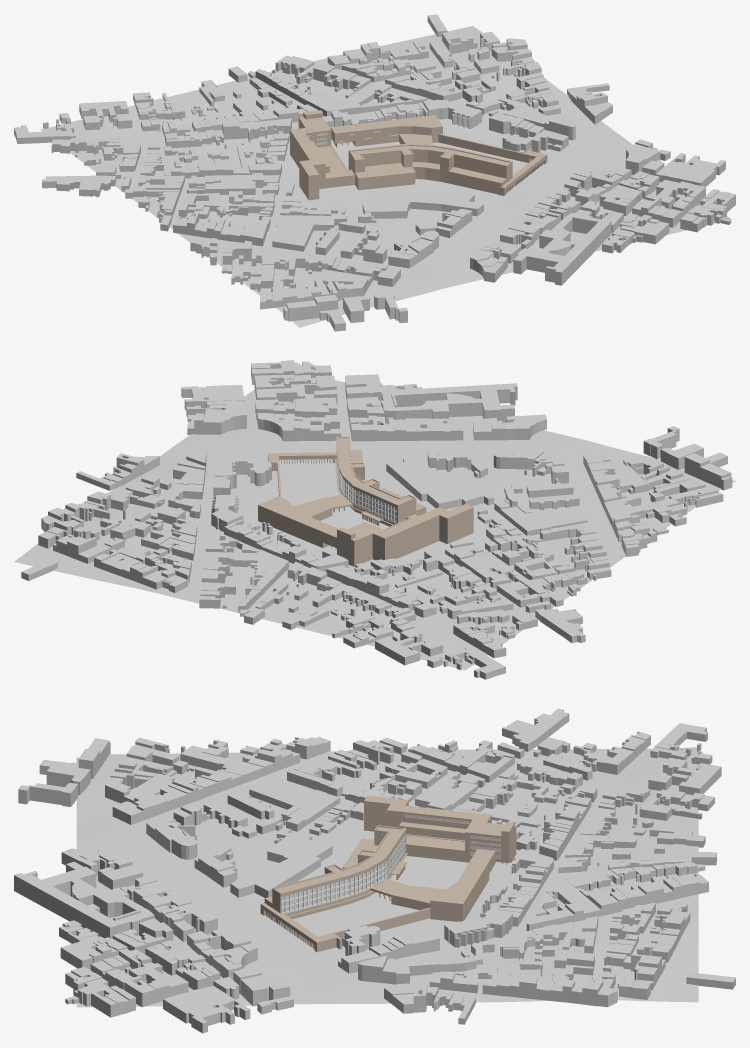
The model's file is libourne.glb.
3 views of the same model, one above another, from view 1: azimuth 30°, elevation 25°; view 2: azimuth 150°, elevation 25°; view 3: azimuth 270°, elevation 25° (orthographic). The views are drawn at different scales.
Parts seen in each view (by area): view 1: topoexport_3D_modeling.001, lycee_max_linder; view 2: topoexport_3D_modeling.001, lycee_max_linder; view 3: topoexport_3D_modeling.001, lycee_max_linder.
Boxes of the visible parts, x1,y1,x2,y2 form: topoexport_3D_modeling.001: [14, 14, 735, 331]; lycee_max_linder: [290, 110, 547, 200]; topoexport_3D_modeling.001: [14, 360, 735, 679]; lycee_max_linder: [258, 436, 473, 566]; topoexport_3D_modeling.001: [14, 708, 735, 1033]; lycee_max_linder: [260, 795, 516, 952].
Bounding box in the file's own units: 516 × 33.64 × 502.
